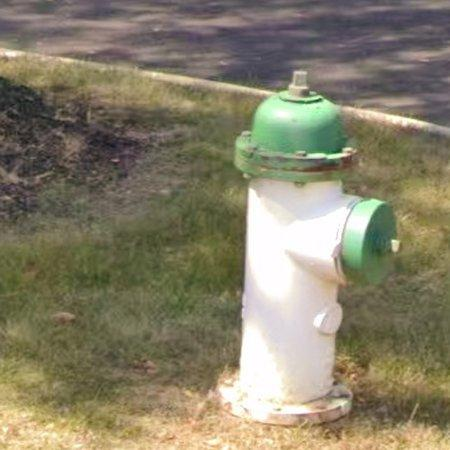a fire hydrant: (221, 71, 398, 426)
